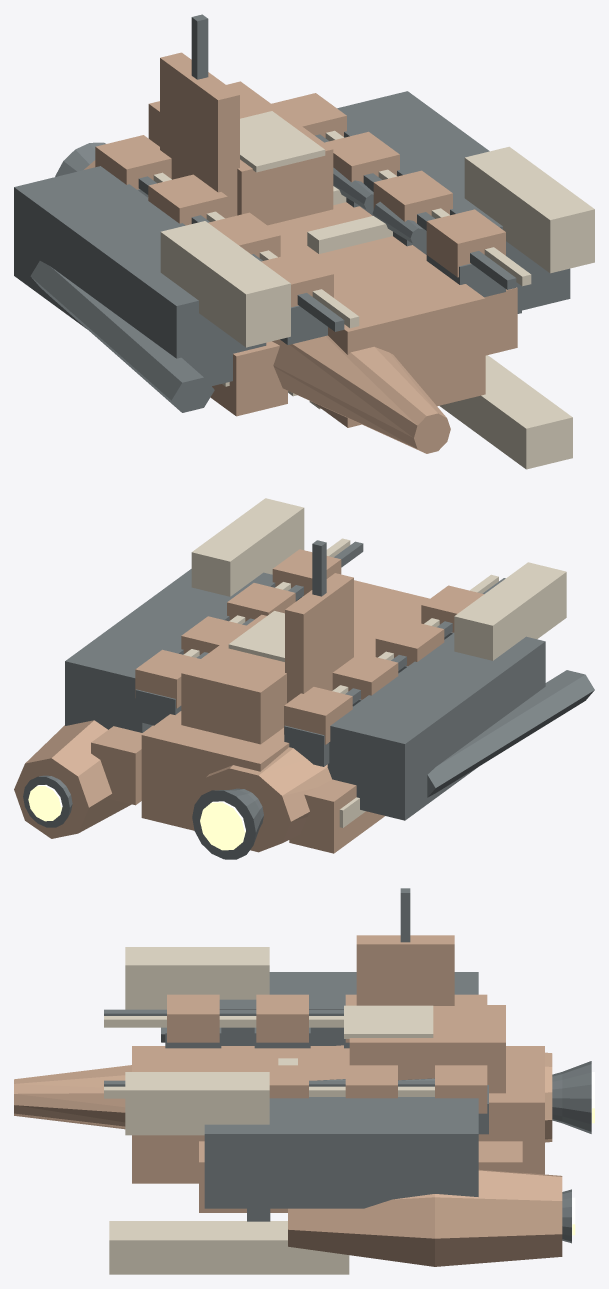
3 views of the same model, one above another, from view 1: azimuth 30°, elevation 25°; view 2: azimuth 150°, elevation 25°; view 3: azimuth 270°, elevation 25° (orthographic). The views are drawn at different scales.
Bounding box in the file's own units: 15.52 × 11.97 × 20.82.
